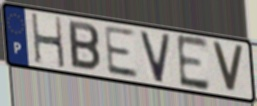B: (67, 18, 102, 73)
E: (174, 33, 212, 93), (102, 24, 141, 80)
H: (29, 12, 67, 71)
V: (210, 40, 246, 96), (138, 30, 173, 86)
